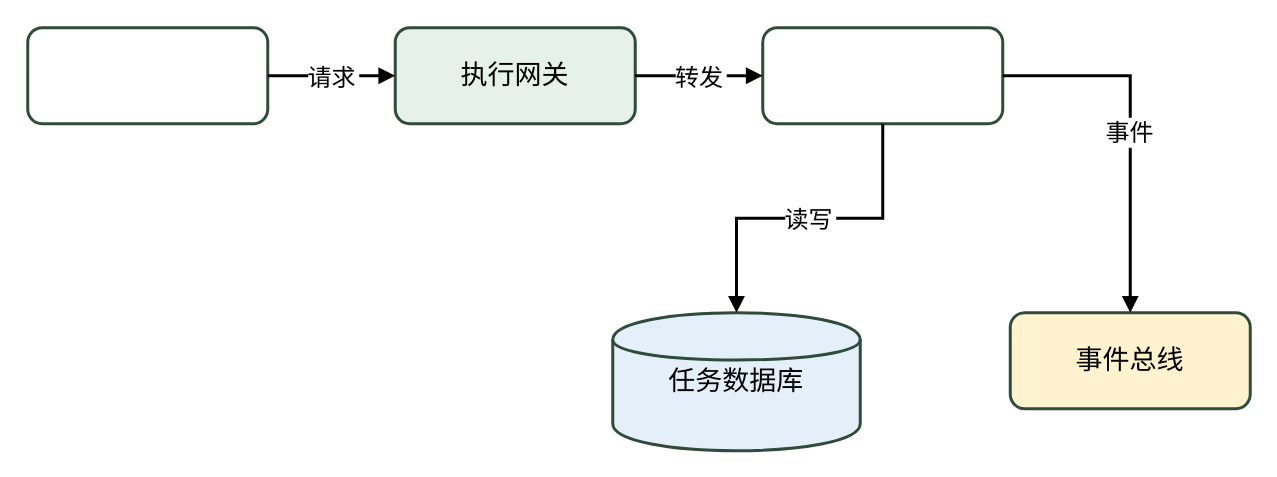
This 1277x477 diagram has some shape labels left out. The shapes that lost their labels are listed below. From the top down, each one's centre as x and y in pixels, then its label:
At point 147,75: "任务调度".
At point 882,75: "计算服务".
